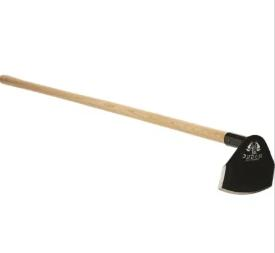HOUE: (0, 74, 275, 252)
